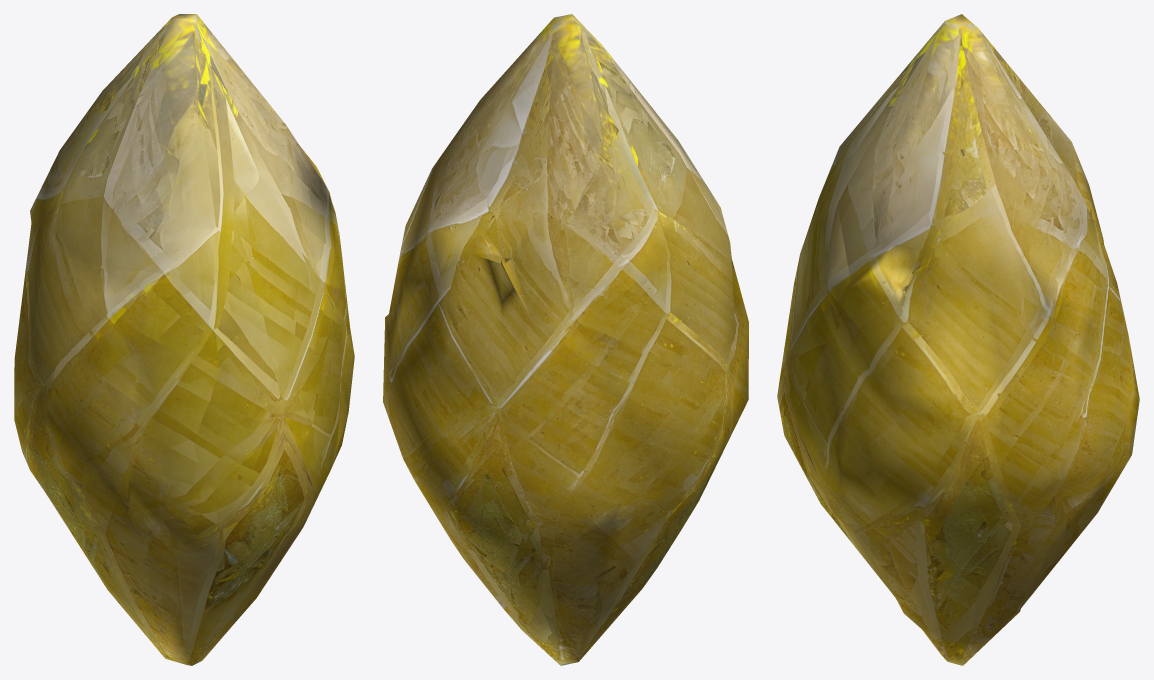
File: yellow_crystal_Gems_0817035157_refine.fbx
The picture shows the model from 3 angles, left to right: view 1: azimuth 30°, elevation 25°; view 2: azimuth 150°, elevation 25°; view 3: azimuth 270°, elevation 25°; orthographic projection.
Parts seen in each view (by area): view 1: Mesh_0; view 2: Mesh_0; view 3: Mesh_0.
Boxes of the visible parts, <box> form: Mesh_0: <box>14,14,354,665</box>; Mesh_0: <box>383,14,748,665</box>; Mesh_0: <box>777,14,1139,665</box>.
Bounding box in the file's own units: 60.57 × 119 × 60.72.
1 material, 1 textured.
